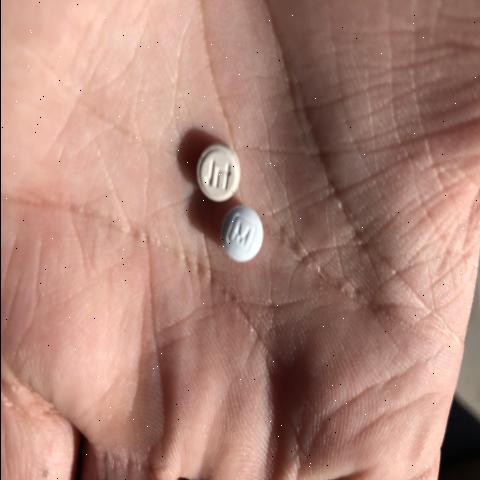Pill: (206, 204, 276, 272), (177, 128, 244, 198)
